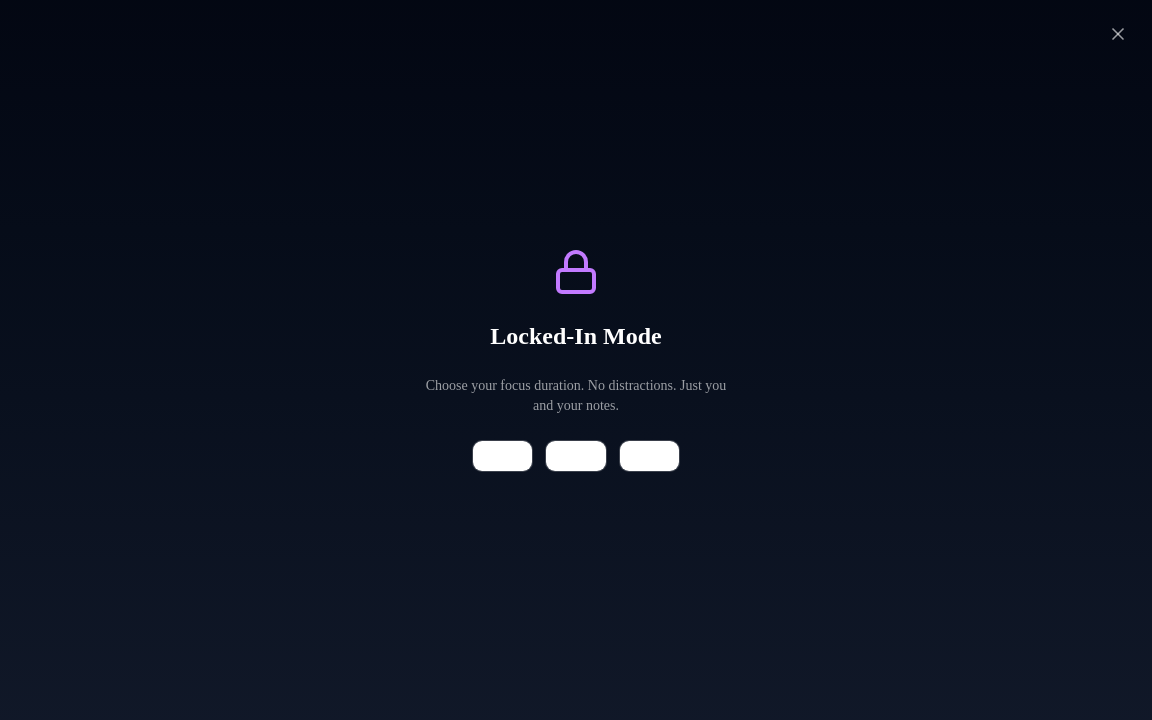
LockedInMode Component › transitions to done phase when timer reaches 0
What coordinates should you click on to do the following:
click the button "25 min"
I would click on:
 (503, 456)
Its box is [472,440,533,472].
Wait 1500000 ms
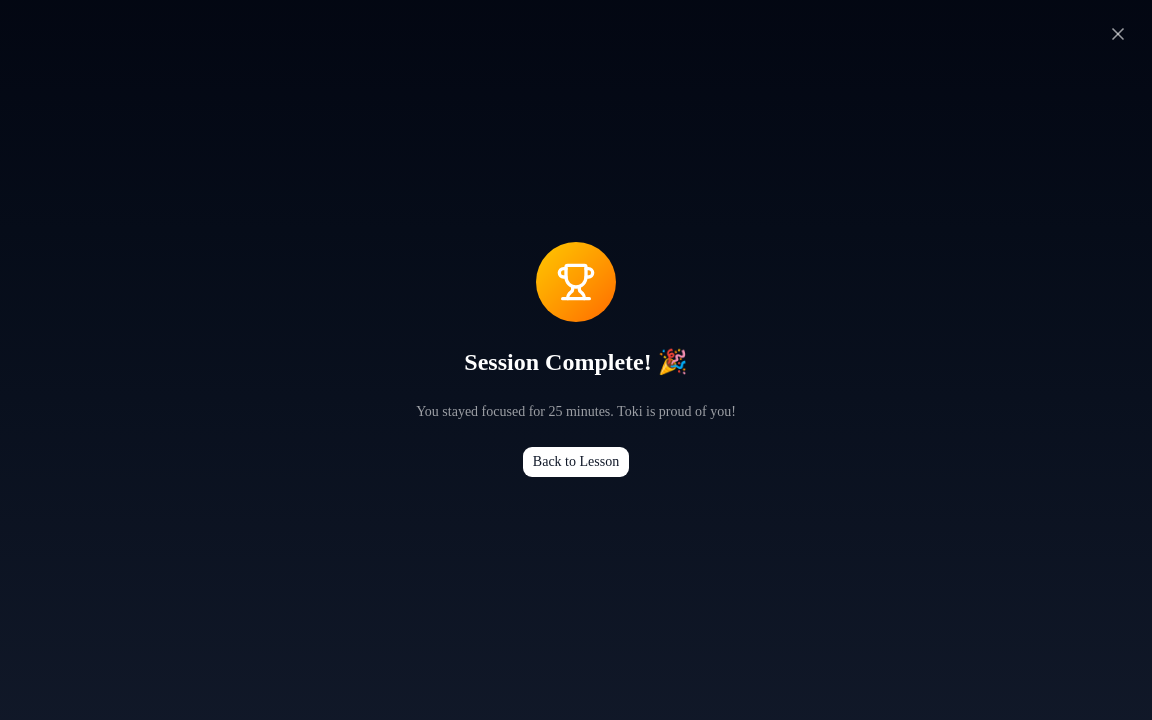
Expected: the heading "Session Complete! 🎉" is shown, [464,349,688,375]
Expected: the button "Back to Lesson" is shown, [522,446,630,478]
